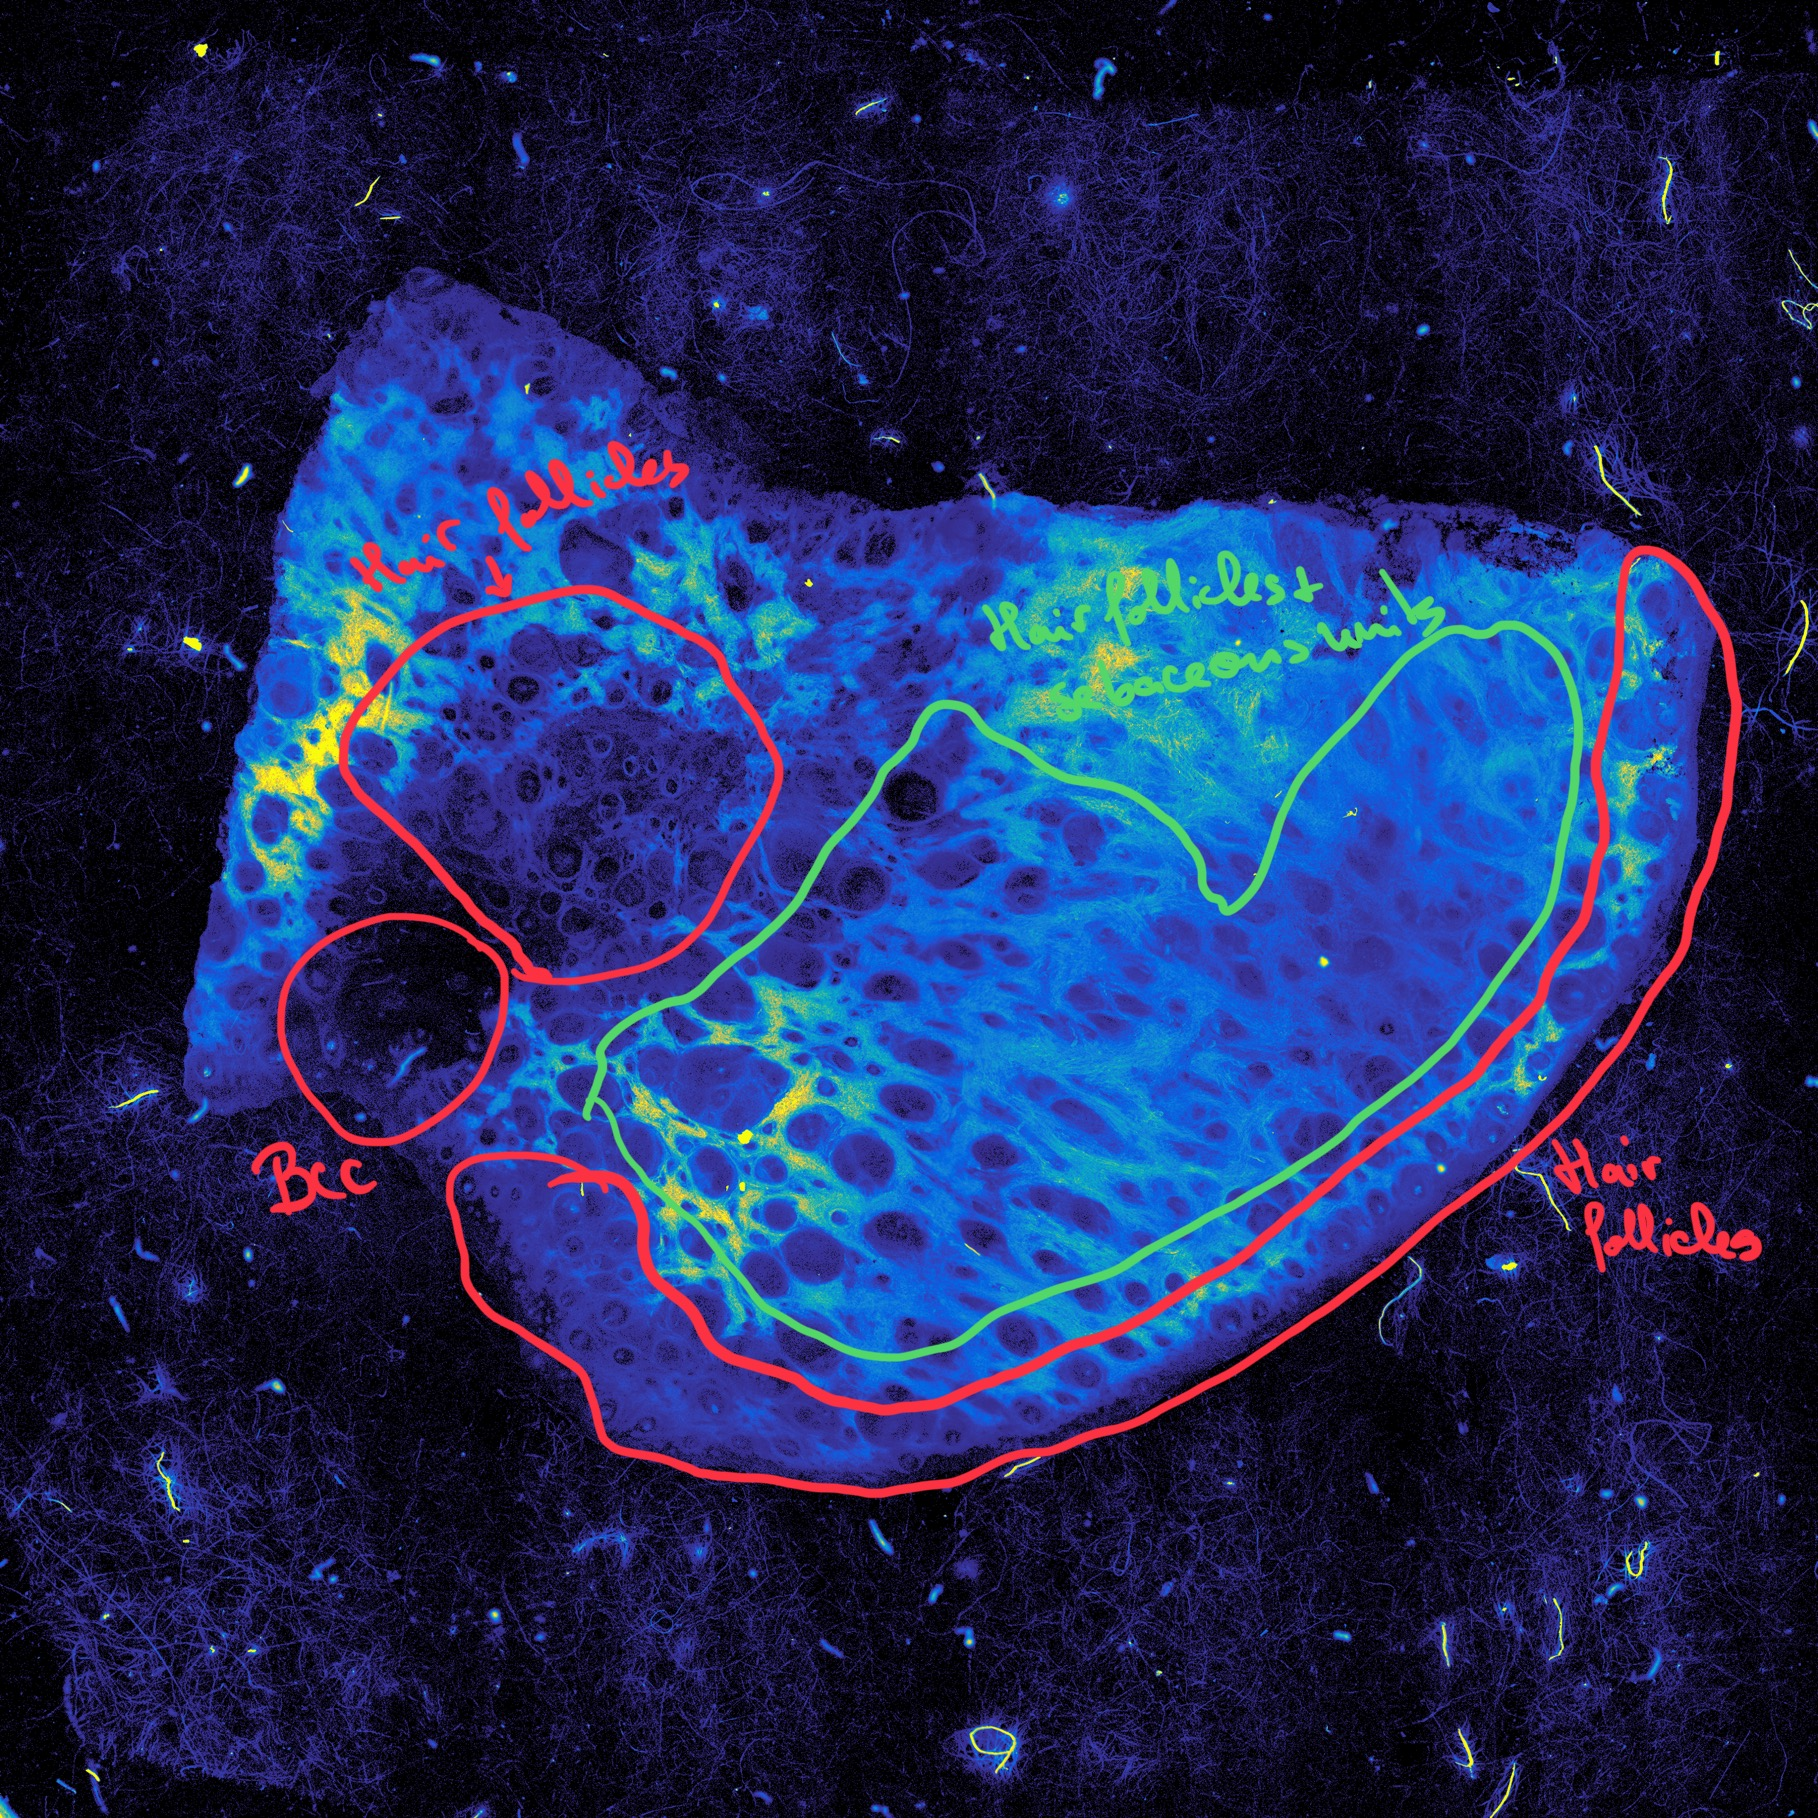HF: (543, 836, 589, 882), (1558, 982, 1605, 1027), (606, 867, 651, 912), (501, 669, 548, 711), (594, 1295, 641, 1334), (1064, 1359, 1112, 1392), (651, 1337, 694, 1373), (509, 766, 548, 806), (509, 901, 548, 941), (1204, 1304, 1244, 1337), (1483, 1089, 1518, 1125), (694, 1388, 733, 1422), (626, 1408, 669, 1437), (648, 674, 683, 709), (563, 1325, 603, 1355), (1319, 1224, 1359, 1254), (598, 679, 631, 714), (1360, 1187, 1390, 1225), (554, 1229, 589, 1260), (1014, 1400, 1051, 1428), (596, 787, 626, 821), (892, 1448, 926, 1478), (581, 729, 616, 757), (1245, 1294, 1275, 1325), (1402, 1170, 1428, 1205), (728, 1430, 756, 1457), (661, 774, 688, 801), (496, 851, 524, 876), (941, 1428, 971, 1452), (611, 1344, 638, 1368), (459, 1175, 483, 1200), (508, 1180, 524, 1205), (563, 946, 579, 969), (488, 1184, 501, 1200)
